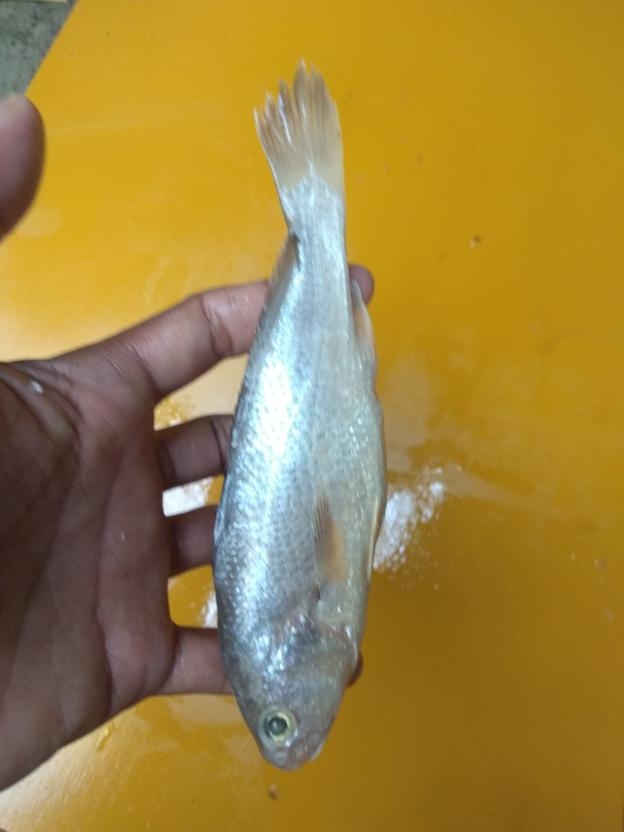Fish head: (225, 621, 364, 773)
Fish tail: (248, 58, 351, 211)
